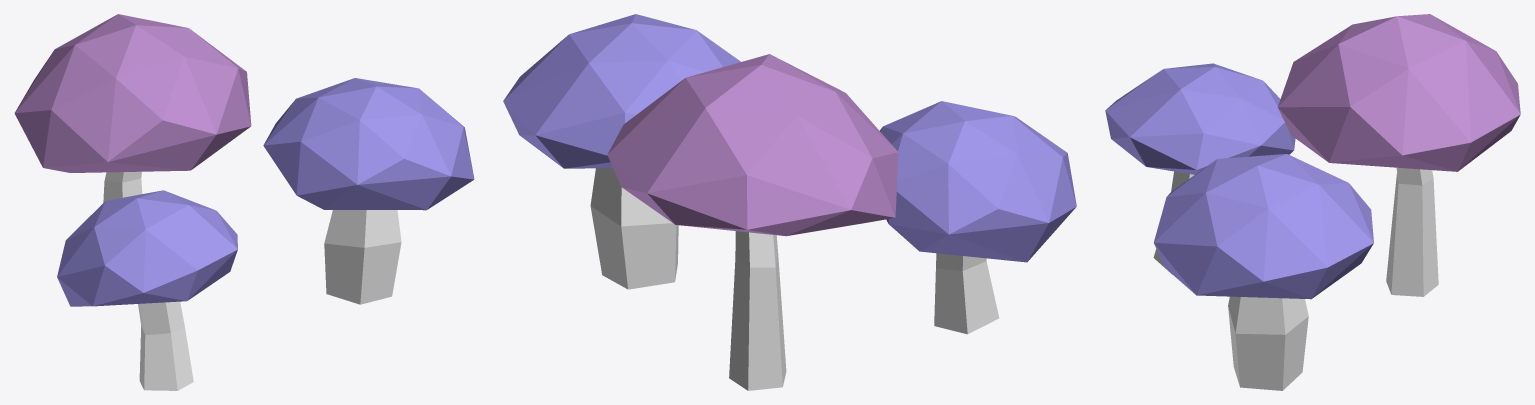
File: Mushroom_k_07.fbx
The picture shows the model from 3 angles, left to right: view 1: azimuth 30°, elevation 25°; view 2: azimuth 150°, elevation 25°; view 3: azimuth 270°, elevation 25°; orthographic projection. The views are drawn at different scales.
Parts seen in each view (by area): view 1: Mushroom_k_07; view 2: Mushroom_k_07; view 3: Mushroom_k_07.
Boxes of the visible parts, box(x1,y1,x2,y2) form: Mushroom_k_07: box(14, 14, 474, 390); Mushroom_k_07: box(503, 14, 1076, 390); Mushroom_k_07: box(1105, 14, 1520, 390).
Bounding box in the file's own units: 62.66 × 38.15 × 49.93.
